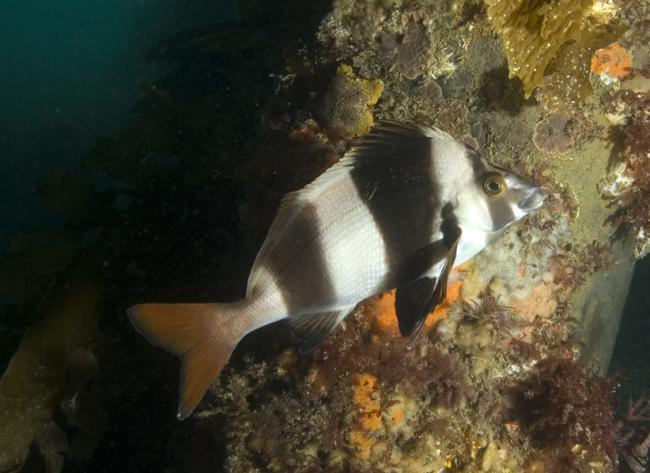fish: (126, 121, 544, 422)
